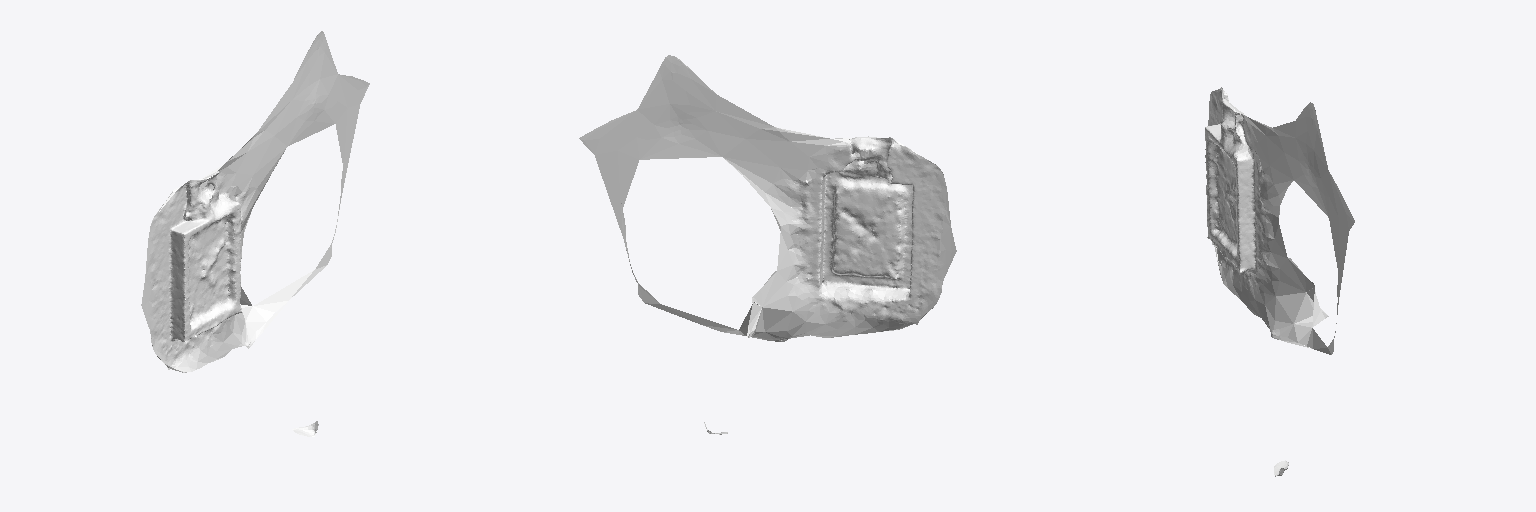
File: reloj_casa.obj
The picture shows the model from 3 angles: view 1: azimuth 30°, elevation 25°; view 2: azimuth 150°, elevation 25°; view 3: azimuth 270°, elevation 25°; orthographic projection.
Parts seen in each view (by area): view 1: mesh; view 2: mesh; view 3: mesh.
Part boxes in pixels (x1,y1,x2,y2): mesh: (141, 31, 369, 436); mesh: (579, 55, 956, 434); mesh: (1205, 87, 1354, 476).
Size of the model in its own units: 1.17 by 1.42 by 0.5012.